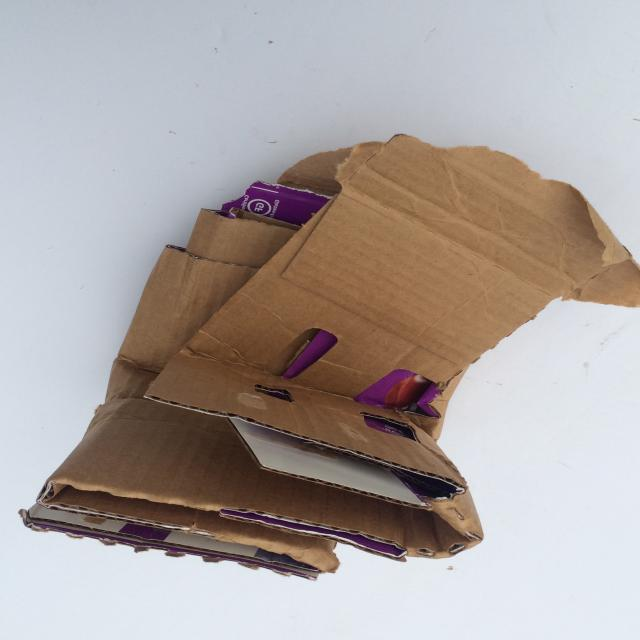cardboard: (17, 128, 640, 588)
